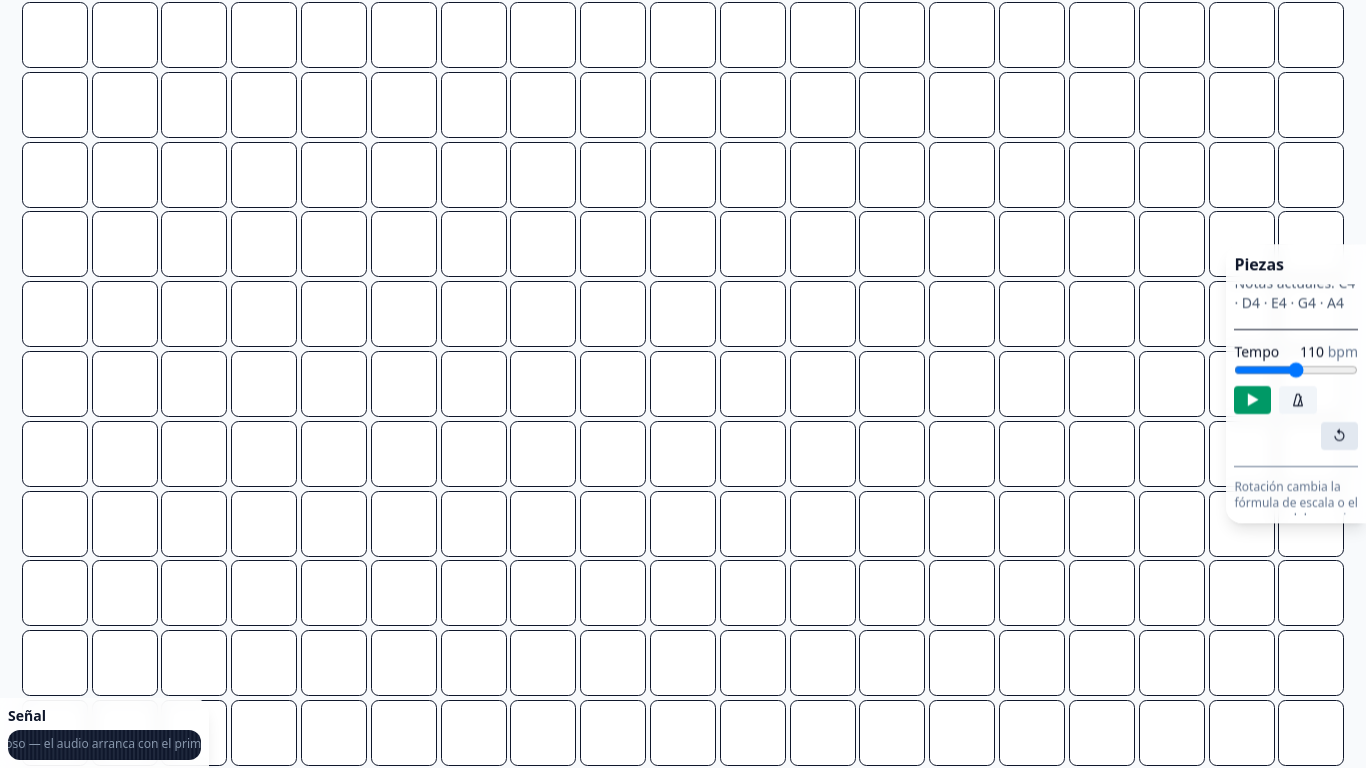
it: App — el transporte › el boton refleja si el reloj ARRANCO, no si se lo apreto
This screenshot has width=1366, height=768.
(page scrolled)
Click the button named "Reproducir" at (1253, 400), box [1234,386,1271,414]
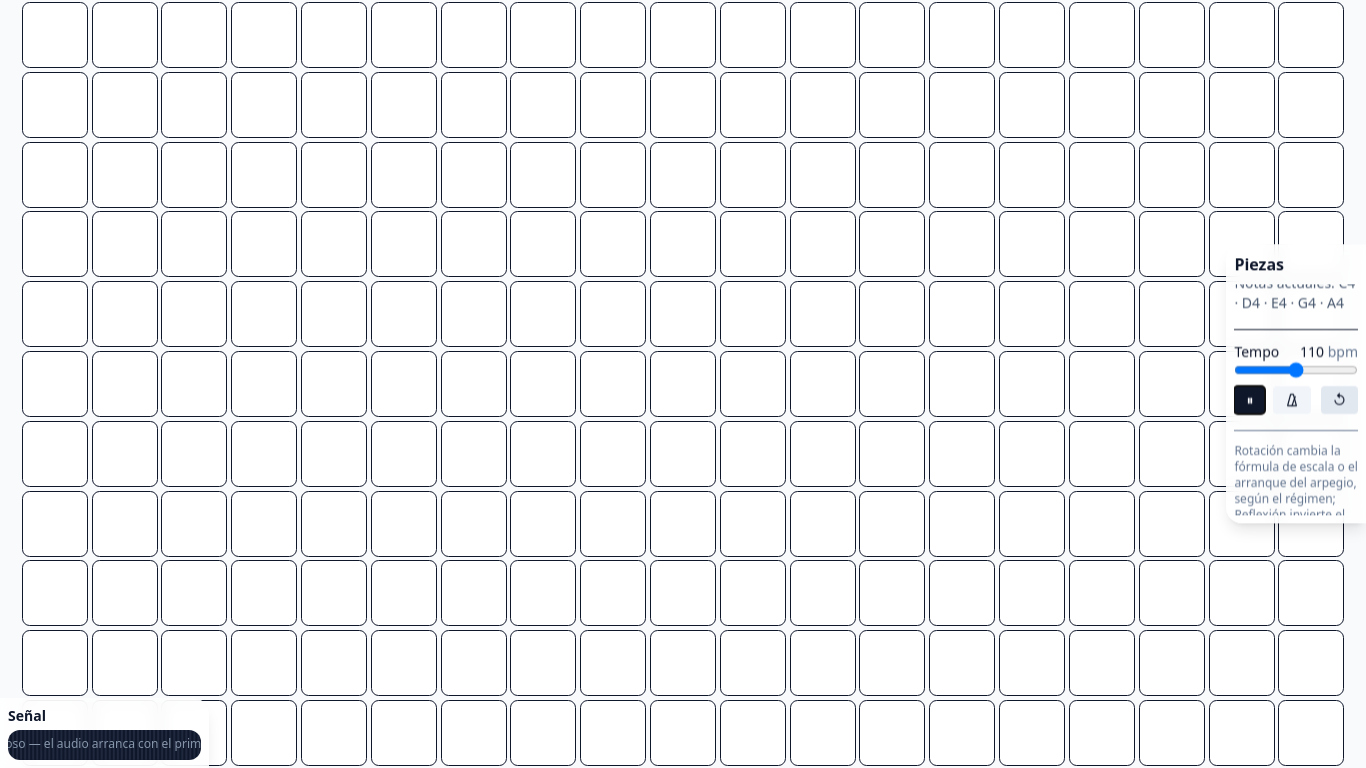
Expected: the button named "Pausa" is shown
Click the button named "Pausa" at (1250, 400), box [1234,386,1265,414]
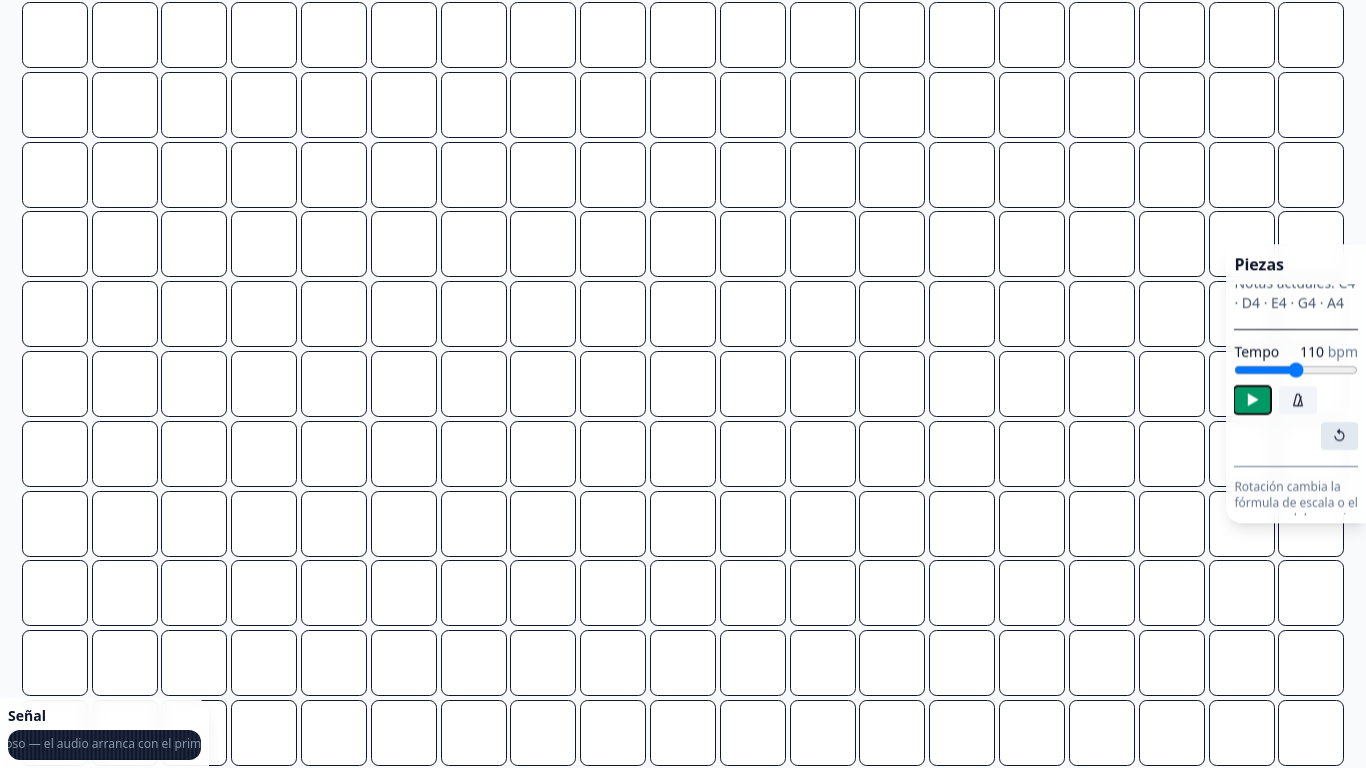
Expected: the button named "Reproducir" is shown, [1234,386,1271,414]
